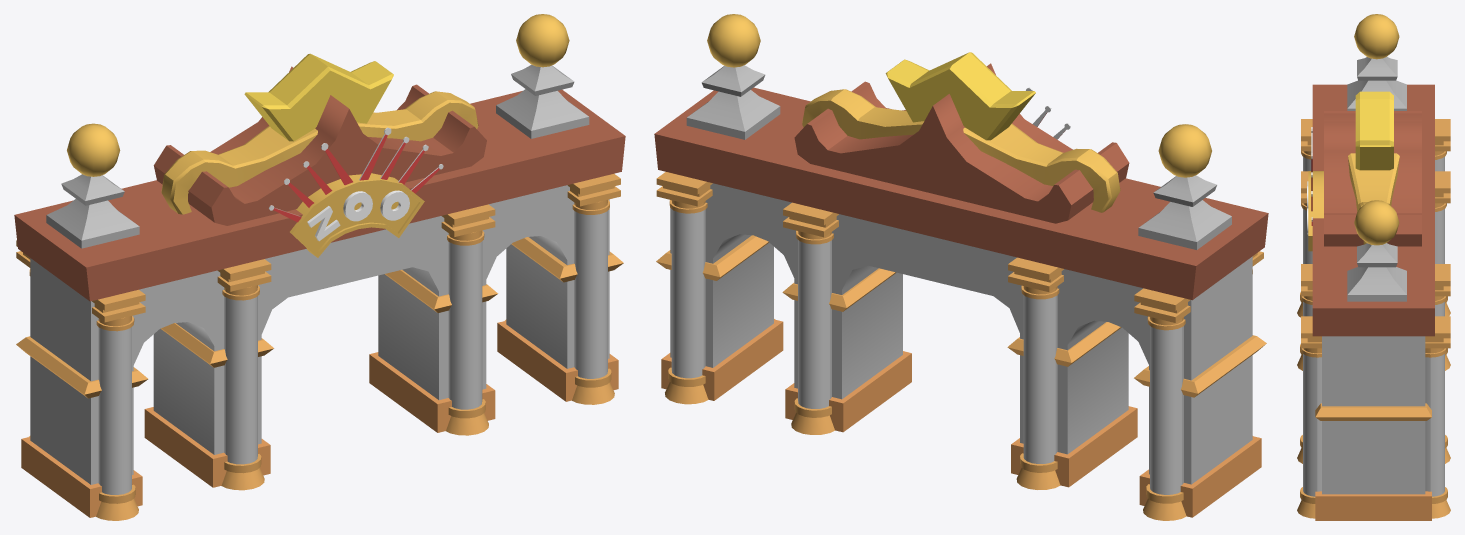
File: men.FBX
The picture shows the model from 3 angles, left to right: view 1: azimuth 30°, elevation 25°; view 2: azimuth 150°, elevation 25°; view 3: azimuth 270°, elevation 25°; orthographic projection. The views are drawn at different scales.
Parts seen in each view (by area): view 1: men; view 2: men; view 3: men.
Part boxes in pixels (x1,y1,x2,y2): men: [14, 14, 625, 520]; men: [654, 14, 1268, 520]; men: [1297, 14, 1450, 520].
Size of the model in its own units: 442 by 288 by 129.
